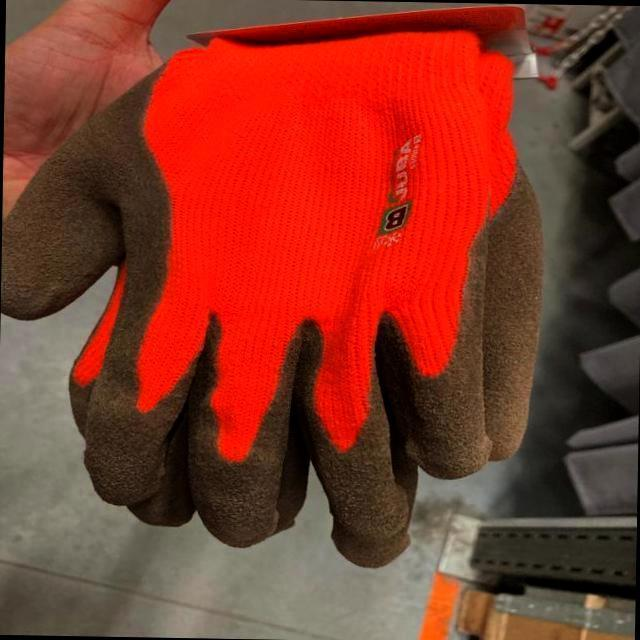Gloves: (1, 13, 545, 568)
